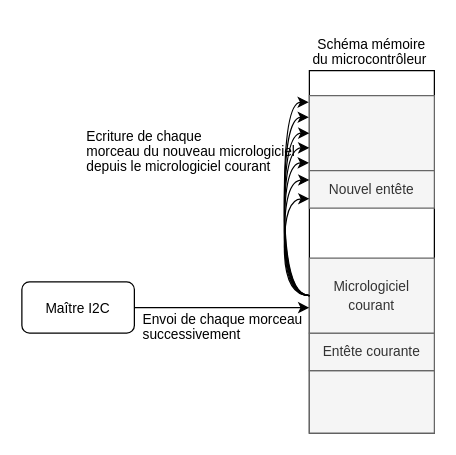
This 456x455 diagram has some shape labels left out. Here are the shapes that lost their labels. From the top down, the centre of each, then its label:
the point at 371,132: Nouveau micrologiciel
the point at 371,401: Chargeur de démarrage
